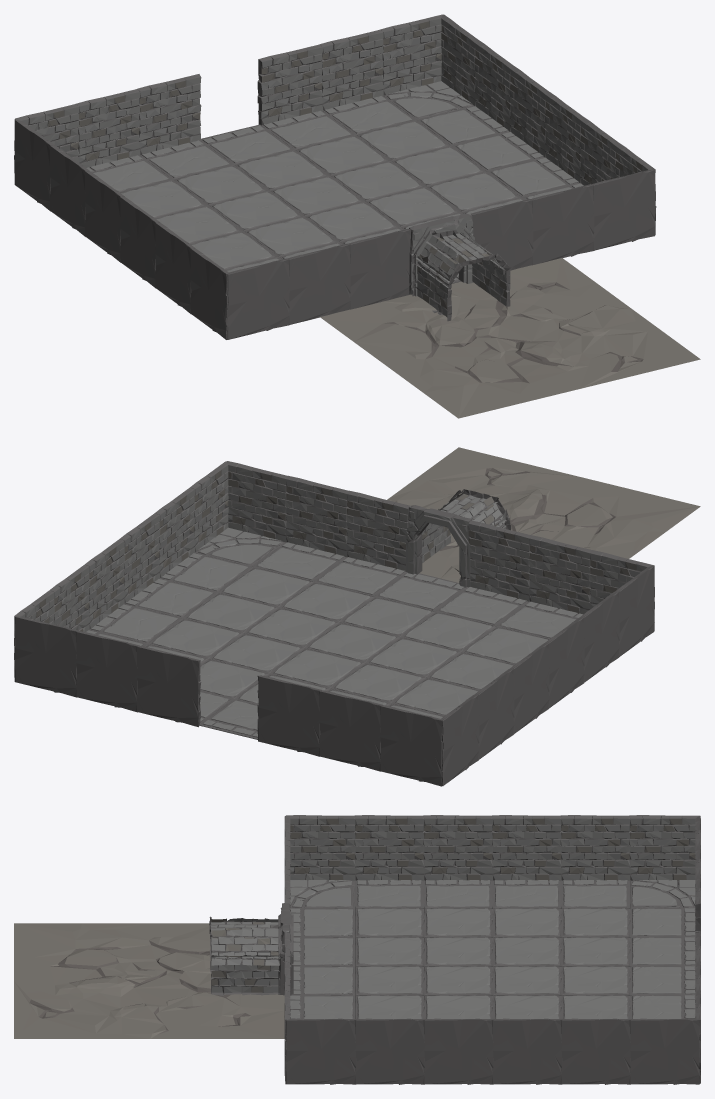
File: ver1.fbx
3 renders of one model, top to bottom at view 1: azimuth 30°, elevation 25°; view 2: azimuth 150°, elevation 25°; view 3: azimuth 270°, elevation 25°, orthographic. The views are drawn at different scales.
Parts seen in each view (by area): view 1: SM_Env_CrackedRock_1, SM_Env_Wall_Tunnel_1, SM_Env_Wall_50, SM_Env_Wall_65, SM_Env_Wall_70, SM_Env_Wall_69, SM_Env_Wall_66, SM_Env_Wall_51, SM_Env_Wall_09, SM_Env_Wall_48, SM_Env_Wall_67, SM_Env_Wall_52 (+39 smaller); view 2: SM_Env_CrackedRock_1, SM_Env_Wall_50, SM_Env_Wall_47, SM_Env_Wall_52, SM_Env_Wall_09, SM_Env_Wall_48, SM_Env_Wall_51, SM_Env_Wall_69, SM_Env_Wall_66, SM_Env_Wall_68, SM_Env_Wall_67, SM_Env_Wall_70 (+43 smaller); view 3: SM_Env_CrackedRock_1, SM_Env_Wall_Tunnel_1, SM_Env_Wall_59, SM_Env_Wall_64, SM_Env_Wall_62, SM_Env_Wall_61, SM_Env_Wall_60, SM_Env_Wall_63, SM_Env_Wall_54, SM_Env_Wall_57, SM_Env_Wall_56, SM_Env_Wall_55 (+33 smaller).
Part boxes in pixels (bbox=[...]): SM_Env_CrackedRock_1: bbox=[320, 258, 700, 418]; SM_Env_Wall_Tunnel_1: bbox=[412, 228, 510, 321]; SM_Env_Wall_50: bbox=[257, 44, 322, 125]; SM_Env_Wall_65: bbox=[227, 258, 289, 339]; SM_Env_Wall_70: bbox=[592, 169, 656, 250]; SM_Env_Wall_69: bbox=[531, 184, 594, 265]; SM_Env_Wall_66: bbox=[287, 243, 350, 325]; SM_Env_Wall_51: bbox=[319, 29, 383, 110]; SM_Env_Wall_09: bbox=[137, 74, 201, 154]; SM_Env_Wall_48: bbox=[76, 89, 140, 167]; SM_Env_Wall_67: bbox=[348, 228, 411, 309]; SM_Env_Wall_52: bbox=[380, 14, 442, 95]; SM_Env_CrackedRock_1: bbox=[387, 447, 700, 582]; SM_Env_Wall_50: bbox=[136, 645, 201, 727]; SM_Env_Wall_47: bbox=[379, 705, 443, 786]; SM_Env_Wall_52: bbox=[14, 616, 78, 697]; SM_Env_Wall_09: bbox=[257, 675, 321, 756]; SM_Env_Wall_48: bbox=[318, 690, 382, 771]; SM_Env_Wall_51: bbox=[75, 631, 139, 712]; SM_Env_Wall_69: bbox=[285, 475, 348, 557]; SM_Env_Wall_66: bbox=[528, 535, 591, 614]; SM_Env_Wall_68: bbox=[346, 490, 410, 571]; SM_Env_Wall_67: bbox=[468, 520, 530, 601]; SM_Env_Wall_70: bbox=[226, 461, 287, 542]; SM_Env_CrackedRock_1: bbox=[14, 923, 284, 1038]; SM_Env_Wall_Tunnel_1: bbox=[209, 916, 280, 995]; SM_Env_Wall_59: bbox=[629, 1018, 700, 1084]; SM_Env_Wall_64: bbox=[285, 1018, 356, 1084]; SM_Env_Wall_62: bbox=[423, 1018, 493, 1084]; SM_Env_Wall_61: bbox=[491, 1018, 562, 1084]; SM_Env_Wall_60: bbox=[560, 1018, 630, 1084]; SM_Env_Wall_63: bbox=[354, 1018, 424, 1084]; SM_Env_Wall_54: bbox=[354, 815, 424, 880]; SM_Env_Wall_57: bbox=[560, 815, 630, 880]; SM_Env_Wall_56: bbox=[492, 815, 561, 880]; SM_Env_Wall_55: bbox=[423, 815, 492, 880].
Bounding box in the file's own units: 3532 × 5002 × 536.
